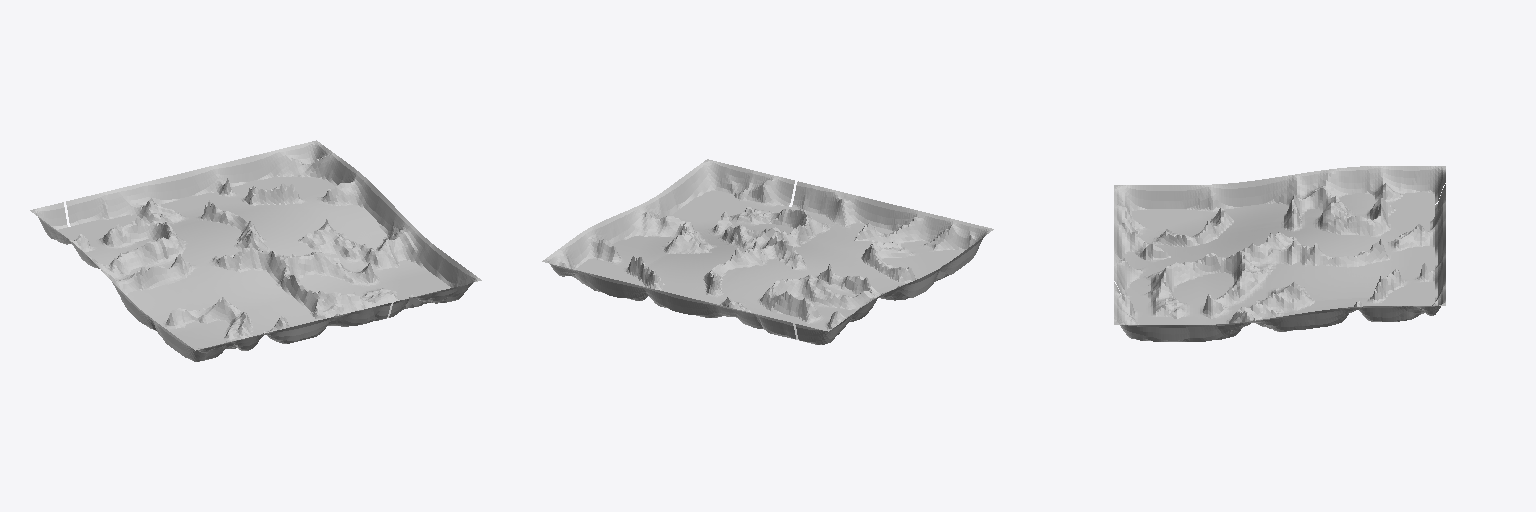
Rendered from canyon.obj.
3 views of the same model, side by side, from view 1: azimuth 30°, elevation 25°; view 2: azimuth 150°, elevation 25°; view 3: azimuth 270°, elevation 25° (orthographic).
Visible parts, largest first — view 1: Landscape; view 2: Landscape; view 3: Landscape.
Boxes of the visible parts, box(x1,y1,x2,y2) form: Landscape: box(30, 140, 481, 361); Landscape: box(542, 159, 993, 344); Landscape: box(1114, 166, 1445, 341).
Size of the model in its own units: 400 by 53.11 by 400.